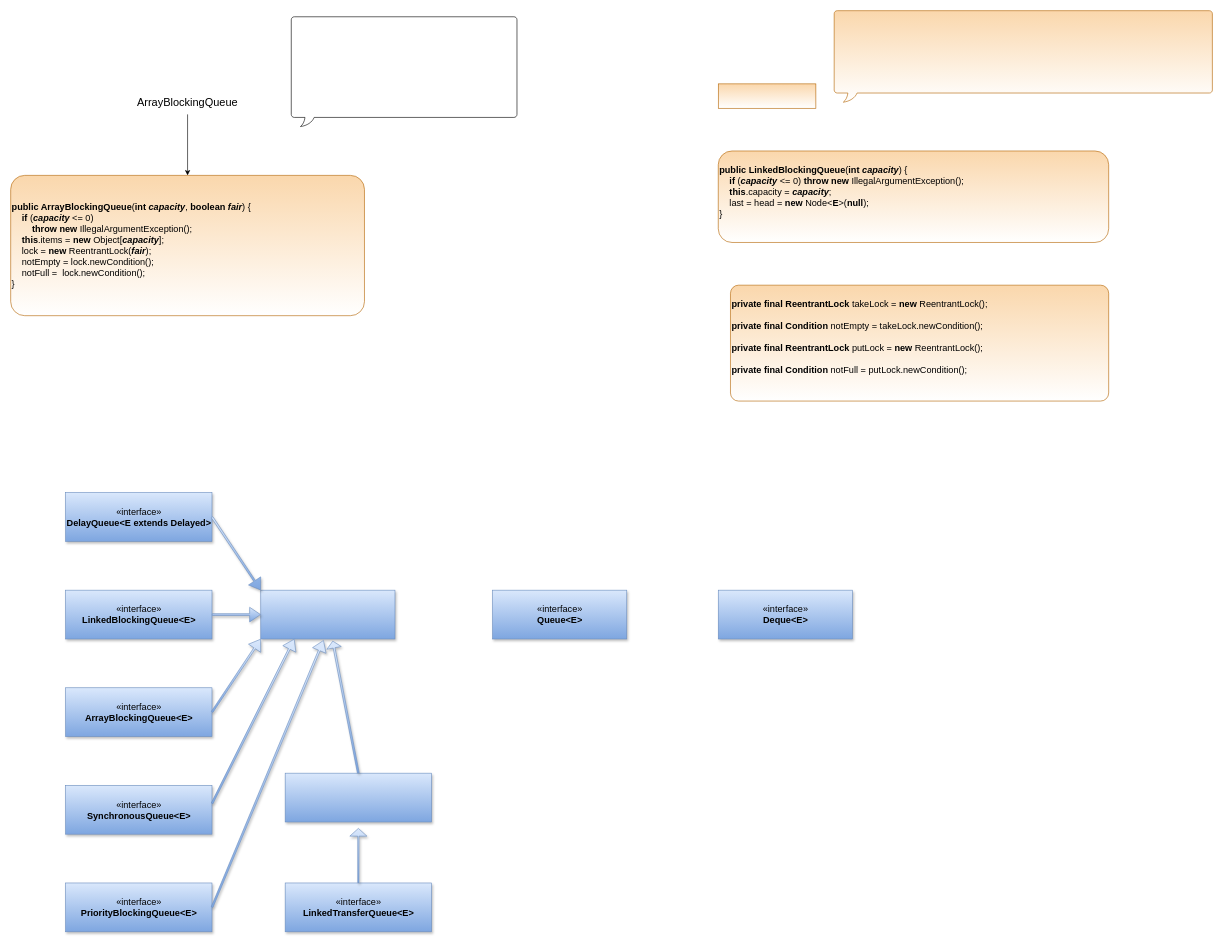
Image size: 1223x947. Some labels were removed from this diagram. Each missing label, with the centre of its shape:
"LinkedBlockingQueue" belongs at [767,95].
"«interface» BlockingQueue<E>" belongs at [328,615].
"«interface» TransferQueue<E>" belongs at [358,798].
"核心： （1）基于单向链表实现 （2）2把互斥锁 + 2个Condition，读线程与写线程是分开的，相互不影响 （3）使用非公平锁，不能指定锁类型" belongs at [1023,56].
"核心： （1）基于数组实现 （2）1把互斥锁 + 2个Condition （3）可以指定锁的类型（公平 | 非公平）" belongs at [404,71].
